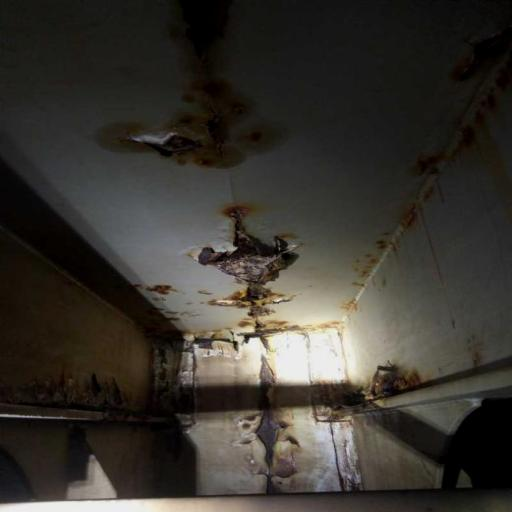Detect-rust-on-metal-surfaces: (0, 202, 322, 456), (322, 17, 509, 341), (89, 4, 317, 186), (278, 357, 457, 426), (229, 406, 320, 481)
